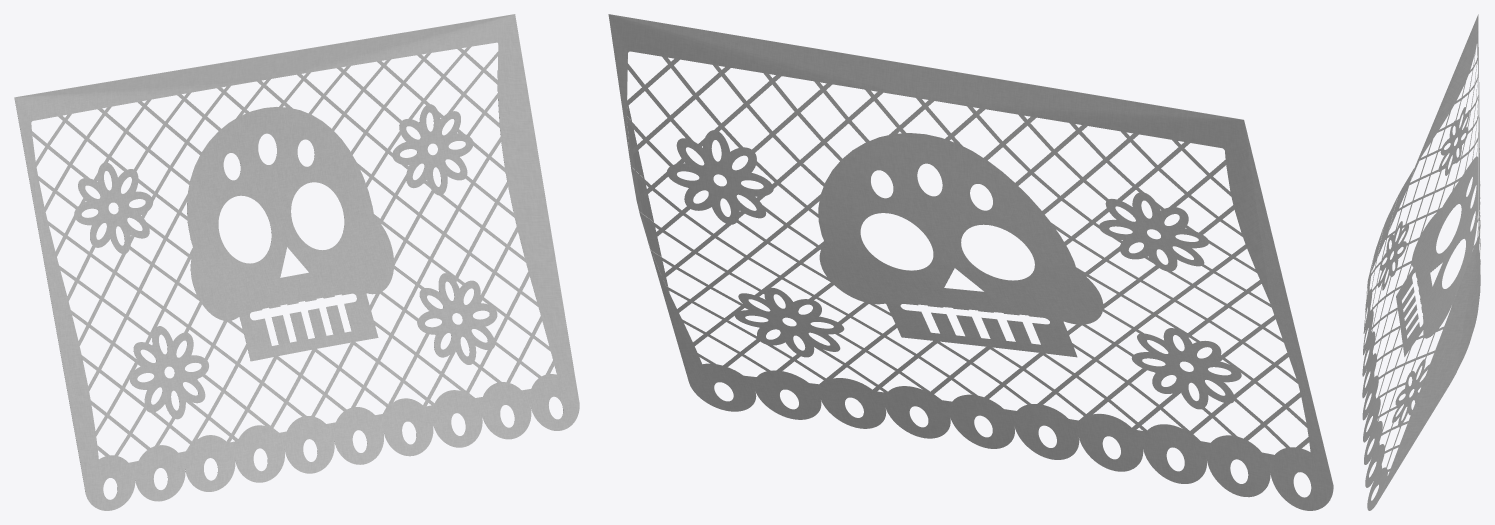
File: papel_1_animado.glb
The picture shows the model from 3 angles, left to right: view 1: azimuth 30°, elevation 25°; view 2: azimuth 150°, elevation 25°; view 3: azimuth 270°, elevation 25°; orthographic projection. The views are drawn at different scales.
Parts seen in each view (by area): view 1: Papel_1; view 2: Papel_1; view 3: Papel_1.
Part boxes in pixels (box(x1,y1,x2,y2)): Papel_1: box(14, 14, 579, 510); Papel_1: box(608, 14, 1333, 510); Papel_1: box(1362, 14, 1480, 510).
Bounding box in the file's own units: 0.58 × 0.4402 × 0.1514.
Materials: 1 (1 with a texture image).
